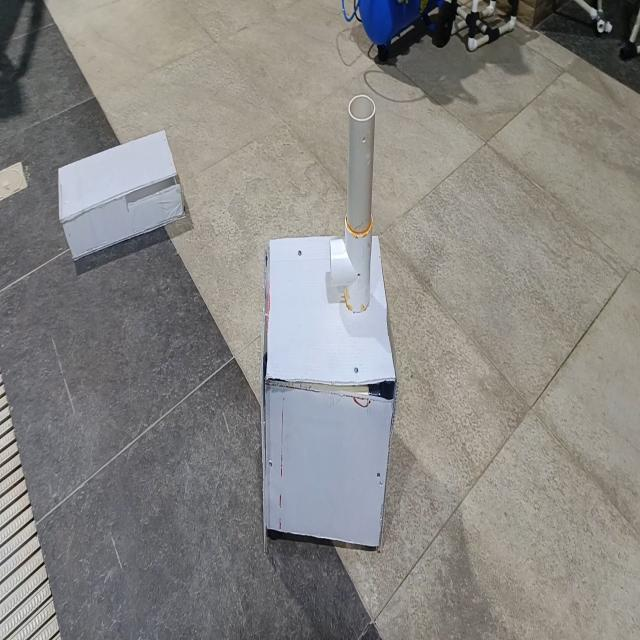Cube: (260, 232, 397, 552)
Cuboid: (57, 127, 184, 262)
